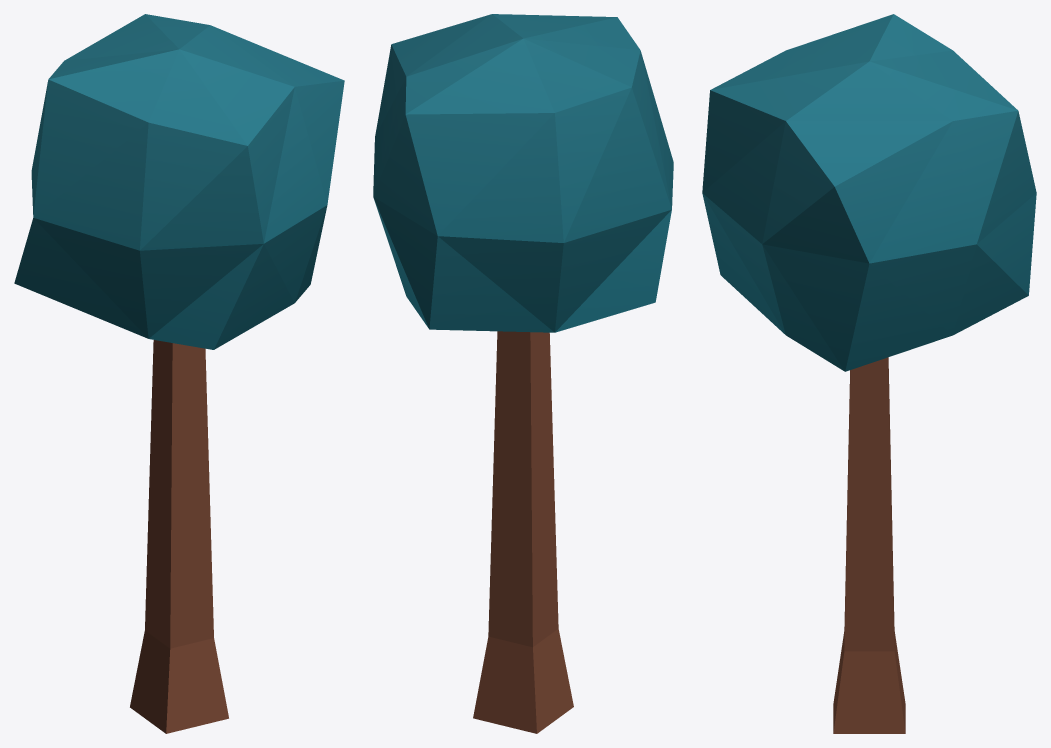
The model's file is Tree_42_gradient_blue_vc.fbx.
The picture shows the model from 3 angles, left to right: view 1: azimuth 30°, elevation 25°; view 2: azimuth 150°, elevation 25°; view 3: azimuth 270°, elevation 25°; orthographic projection. The views are drawn at different scales.
Parts seen in each view (by area): view 1: Tree_42_gradient_blue_vc; view 2: Tree_42_gradient_blue_vc; view 3: Tree_42_gradient_blue_vc.
Boxes of the visible parts, x1=… form: Tree_42_gradient_blue_vc: x1=14, y1=14, x2=344, y2=733; Tree_42_gradient_blue_vc: x1=373, y1=14, x2=673, y2=733; Tree_42_gradient_blue_vc: x1=702, y1=14, x2=1036, y2=733.
Size of the model in its own units: 98.78 by 212 by 97.79.
